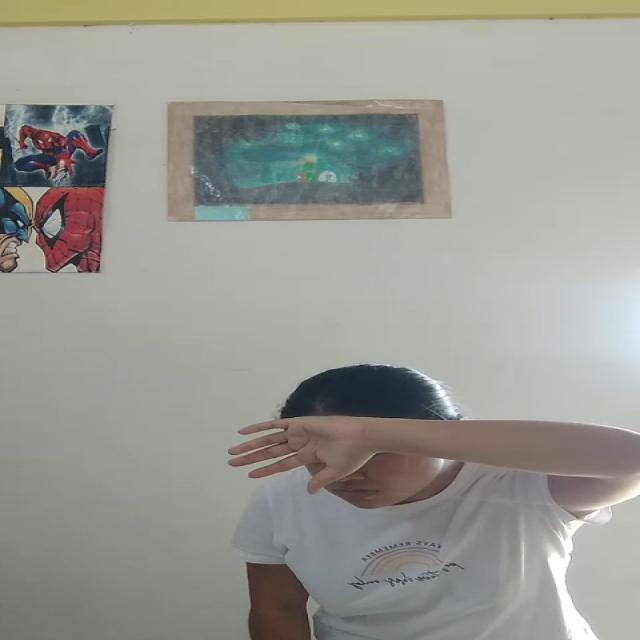7_mano_rostro: (229, 414, 460, 492)
